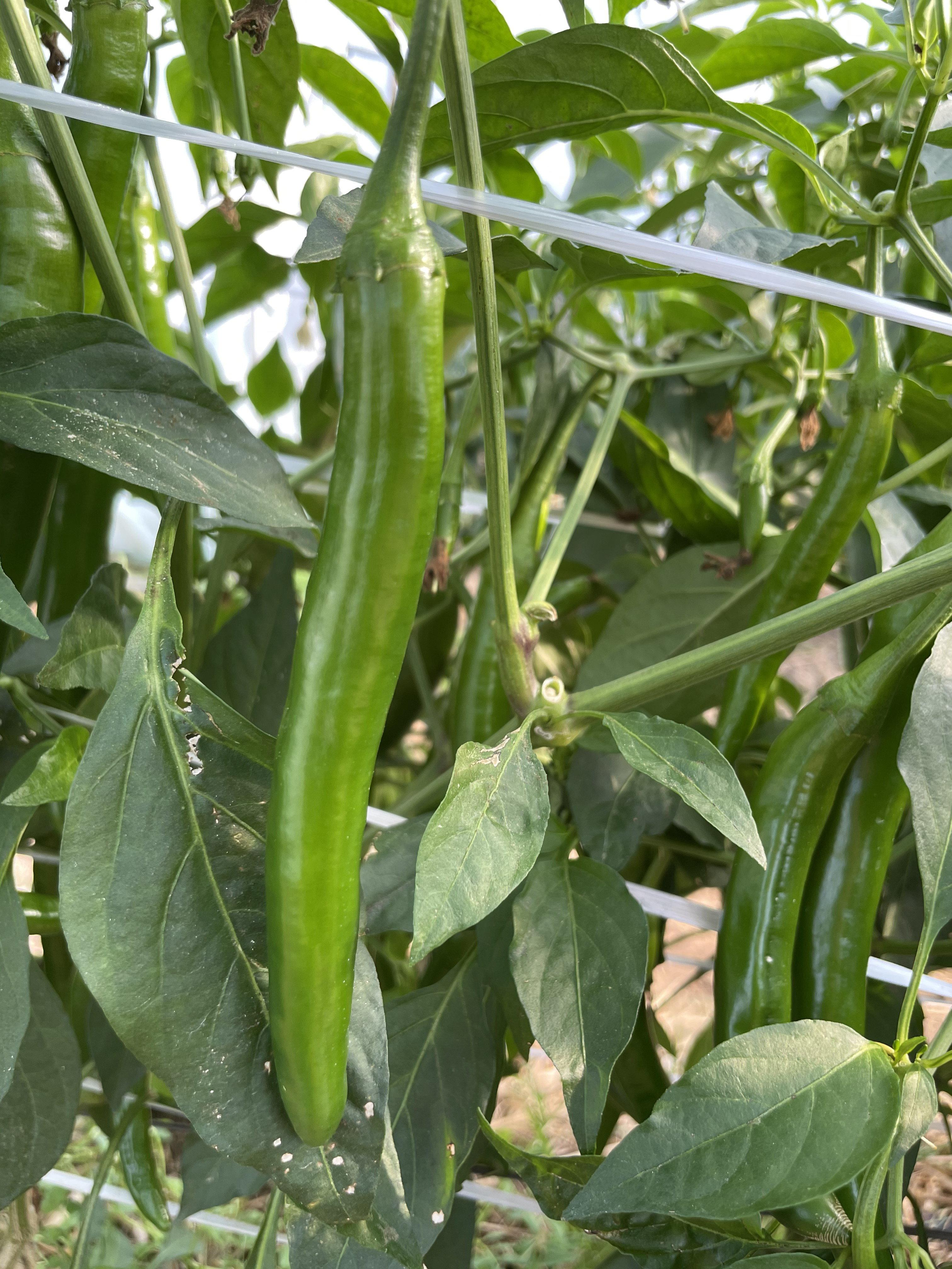Buah Cabai Sehat: (259, 2, 455, 1148)
Daun Cabai Sehat: (47, 624, 419, 1269), (0, 300, 326, 541), (551, 1018, 910, 1231), (509, 847, 650, 1156), (407, 721, 552, 985), (606, 699, 769, 875)
